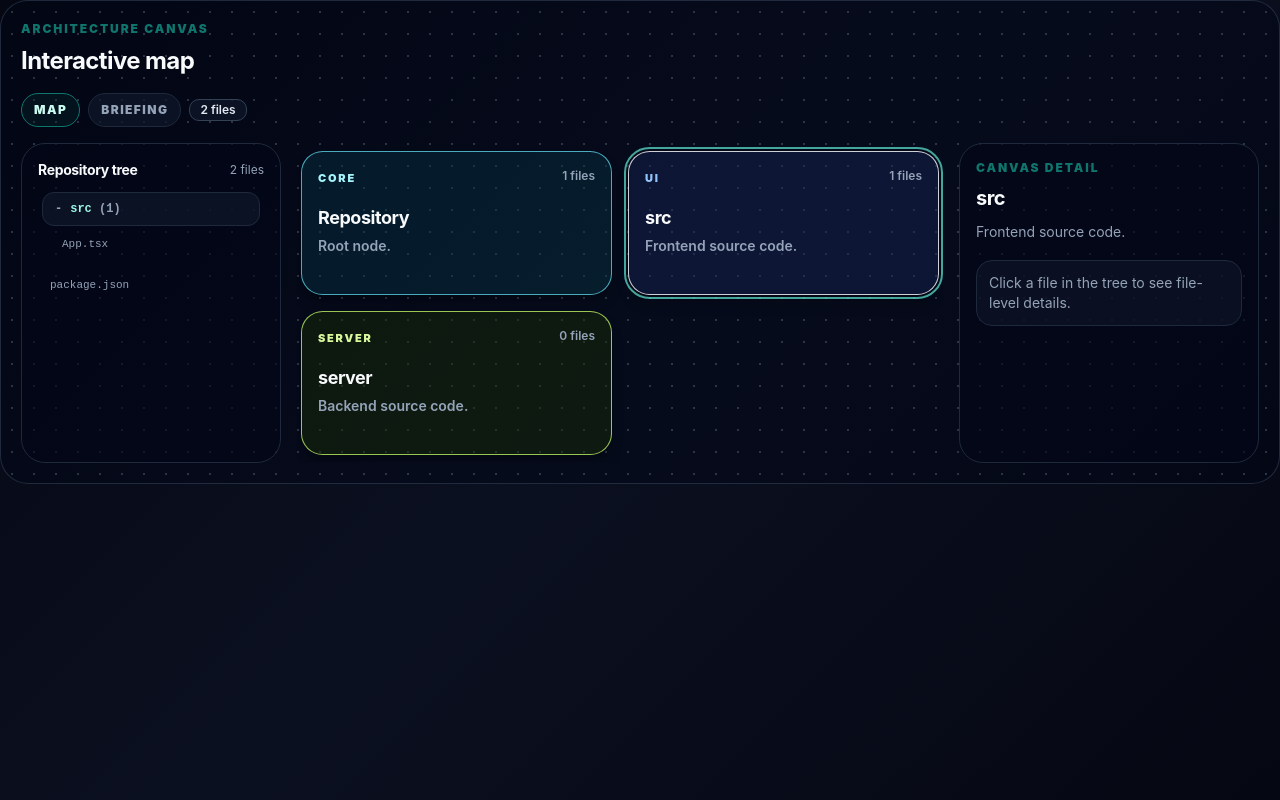
Test: ArchitectureMap › shows a no-risk message in briefing when no risks are detected
The image size is (1280, 800).
Click the button "Briefing" at (135, 110), box [88,93,181,127]
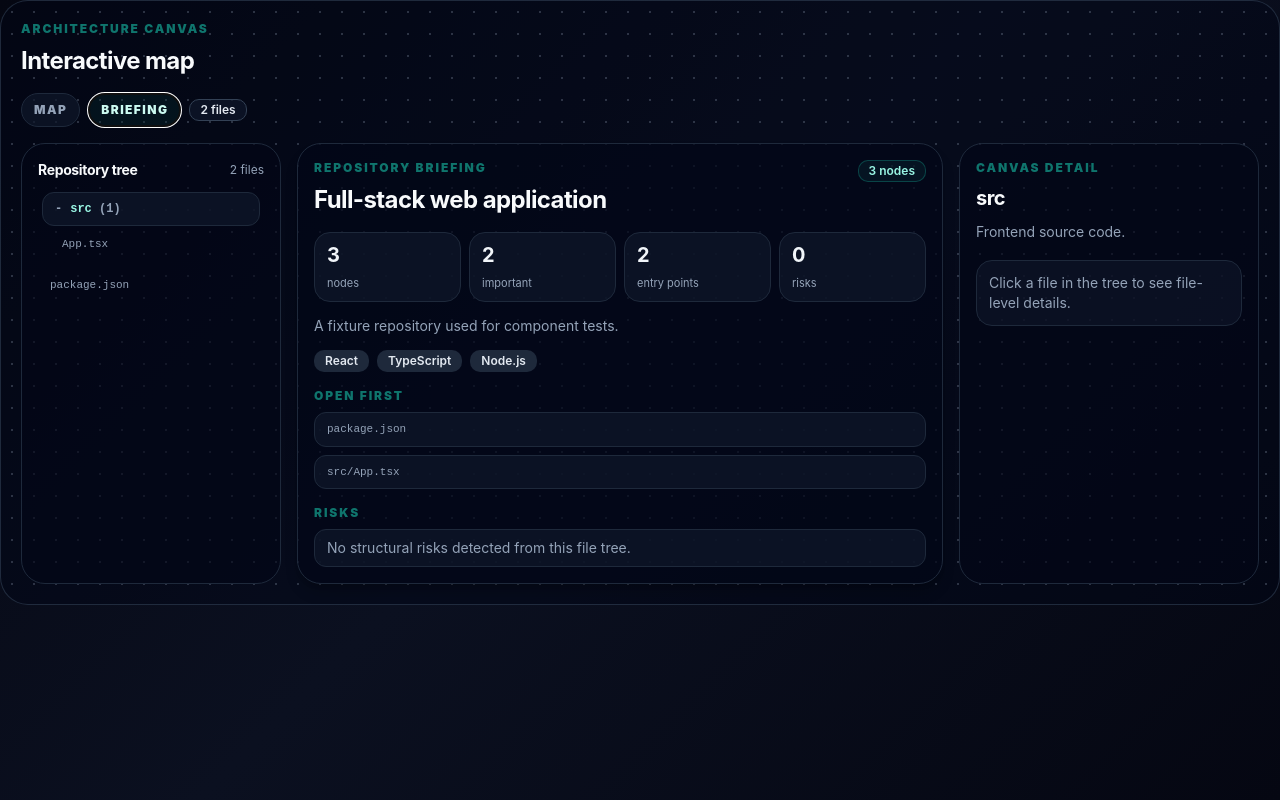
Expected: the text "No structural risks detected from this file tree." is shown, [314,529,926,567]
